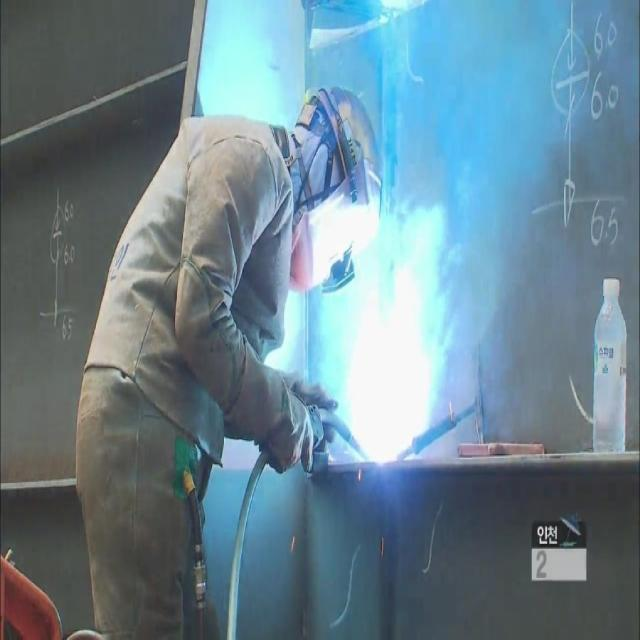welding: (357, 322, 426, 461)
